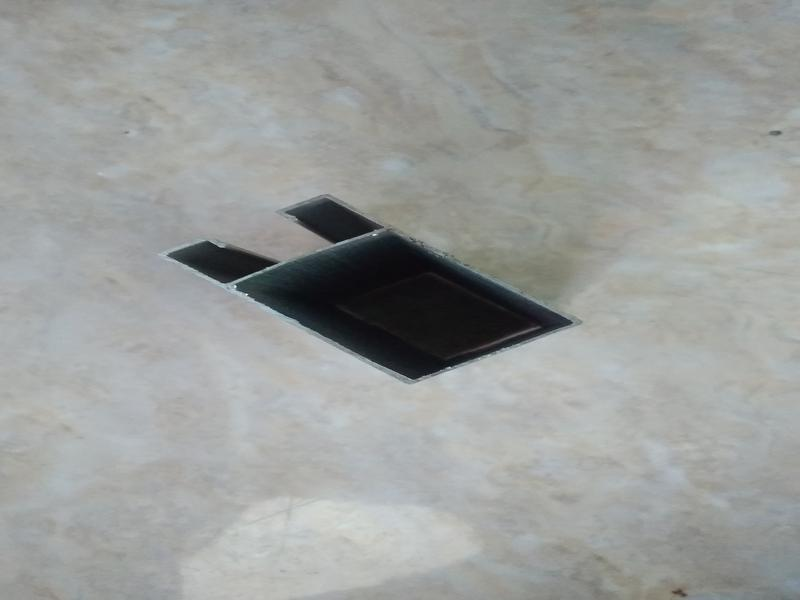Aluminium_1: (141, 173, 607, 414)
